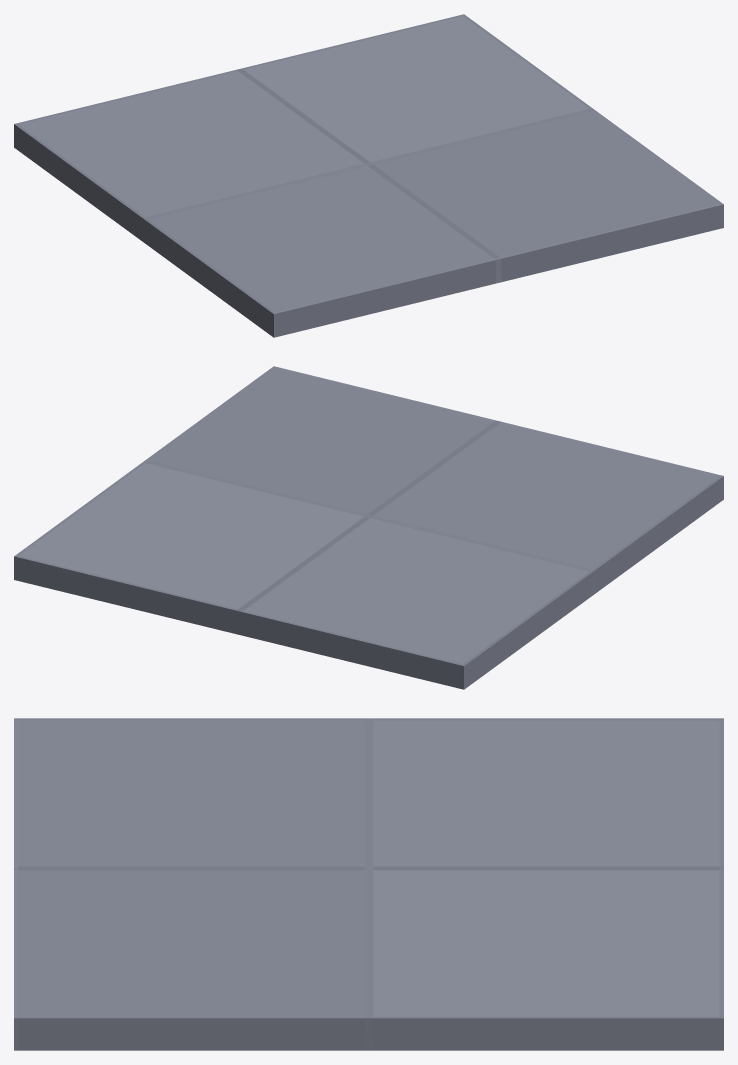
The model's file is Floor_Tile_Clean_4m.fbx.
3 views of the same model, one above another, from view 1: azimuth 30°, elevation 25°; view 2: azimuth 150°, elevation 25°; view 3: azimuth 270°, elevation 25° (orthographic). The views are drawn at different scales.
Parts seen in each view (by area): view 1: Floor_Tile_Clean_4m; view 2: Floor_Tile_Clean_4m; view 3: Floor_Tile_Clean_4m.
Part boxes in pixels (x1,y1,x2,y2): Floor_Tile_Clean_4m: [14, 14, 723, 337]; Floor_Tile_Clean_4m: [14, 366, 723, 689]; Floor_Tile_Clean_4m: [14, 718, 723, 1050].
Bounding box in the file's own units: 4 × 0.2 × 4.
